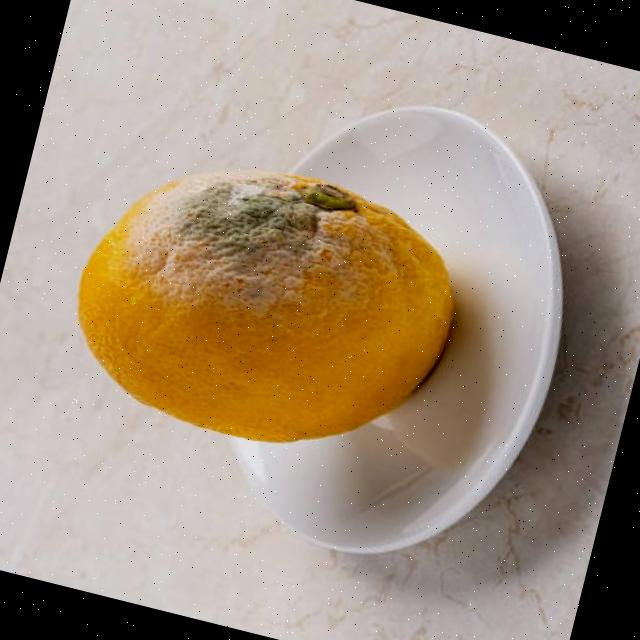Rotten: (55, 127, 478, 482)
